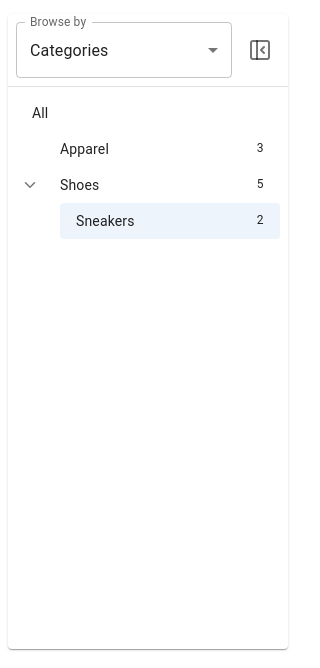
Test: ExplorerBrowseRail › opens the branches that lead to the selection
This screenshot has width=320, height=668.
Expected: the text "Sneakers" is shown, left=76, top=213, right=135, bottom=229
Click the button named "Collapse Shoes". click: x=30, y=185
box: left=16, top=171, right=44, bottom=199
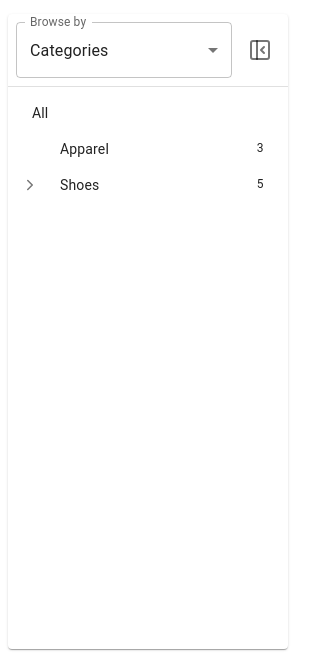
Expected: the button "Sneakers" is gone
